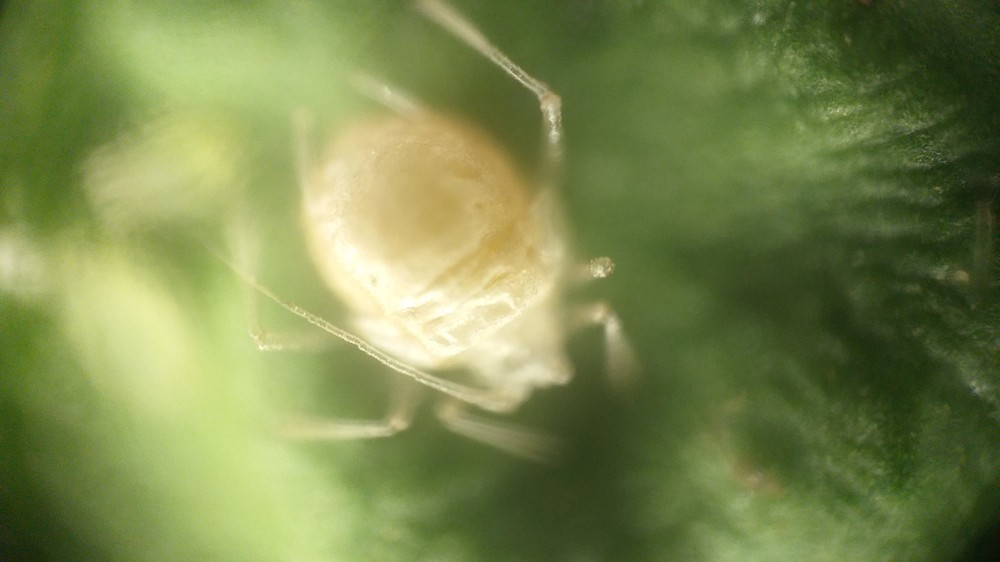Pulgon: (195, 17, 695, 504)
